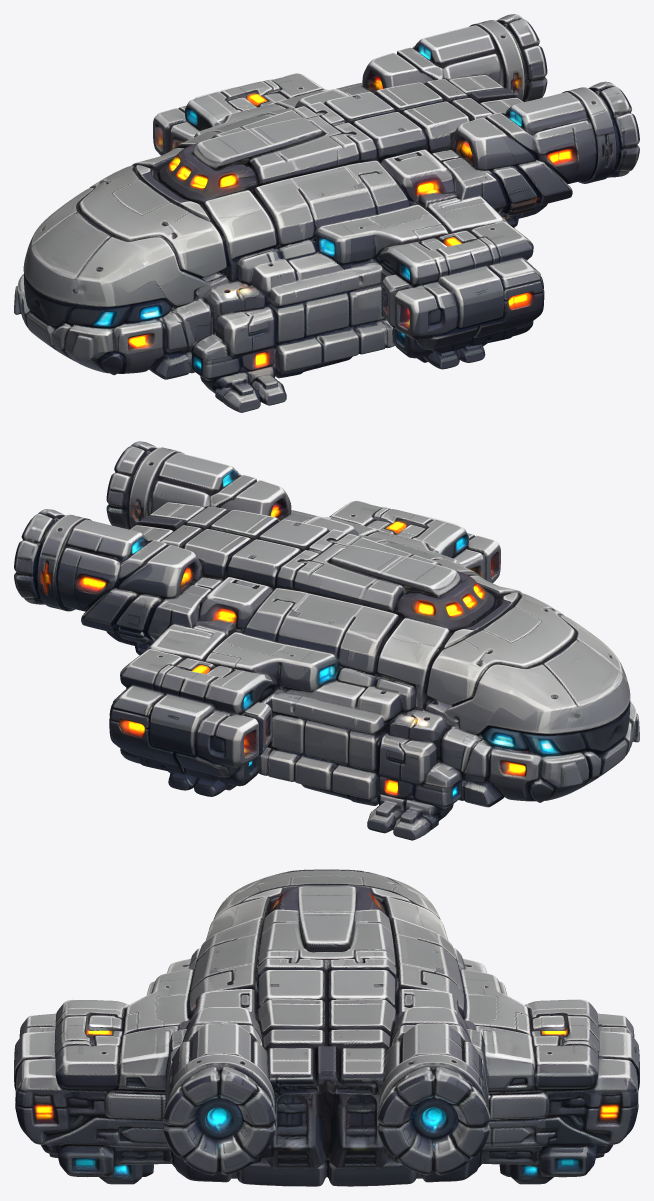
File: dropship.glb
3 renders of one model, top to bottom at view 1: azimuth 30°, elevation 25°; view 2: azimuth 150°, elevation 25°; view 3: azimuth 270°, elevation 25°, orthographic. The views are drawn at different scales.
Visible parts, largest first — view 1: mesh_node; view 2: mesh_node; view 3: mesh_node.
Boxes of the visible parts, x1,y1,x2,y2 form: mesh_node: (14,14,639,412); mesh_node: (14,441,639,840); mesh_node: (14,869,639,1186).
Size of the model in its own units: 1.9 by 0.6829 by 1.66.
1 material, 1 textured.
